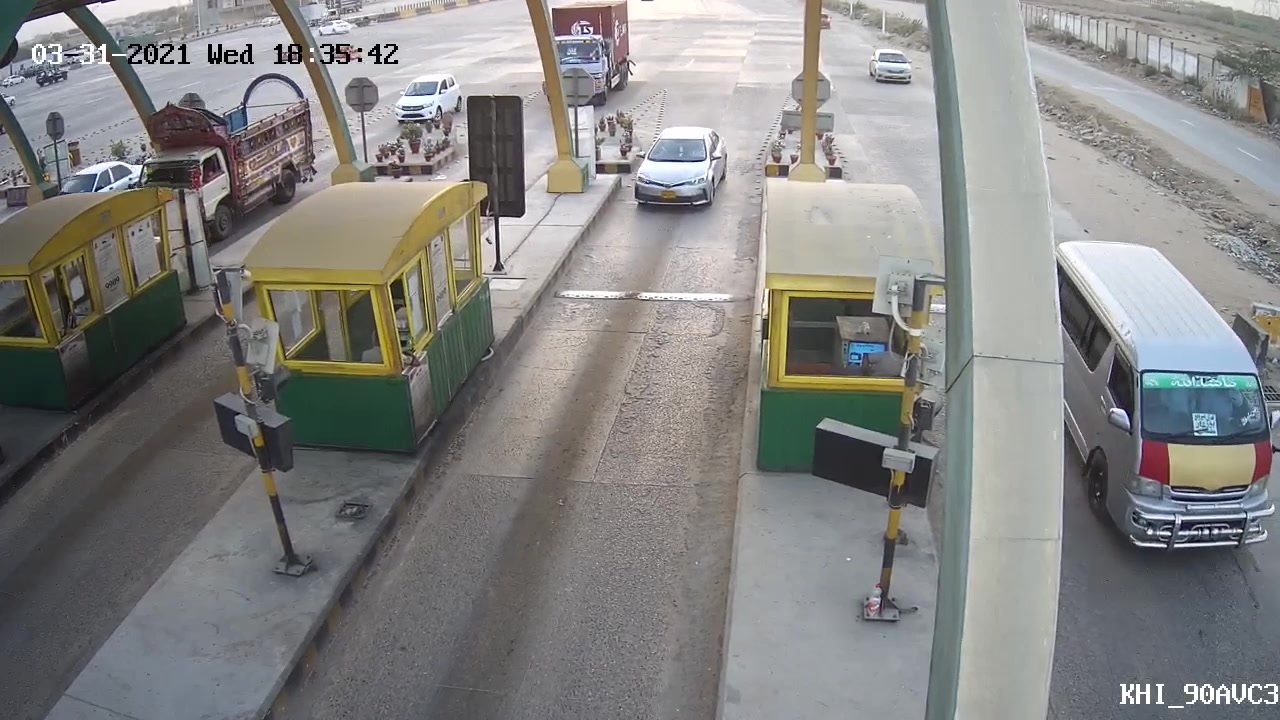F1: (628, 120, 731, 212)
